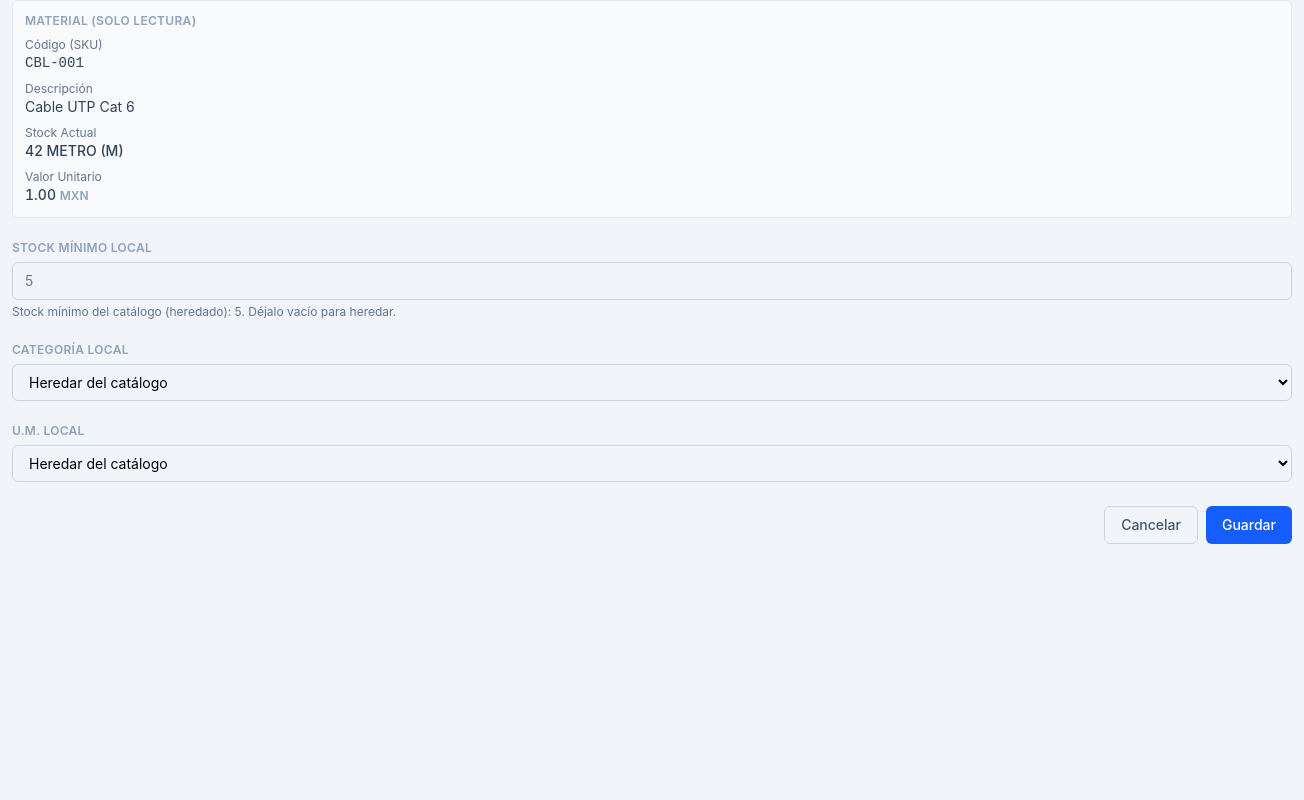
Test: ConfigLocalForm validación › stock mínimo negativo → error
In the number field labelled "Stock Mínimo Local": coordinates (652, 281) [12, 262, 1292, 300], type "-5"
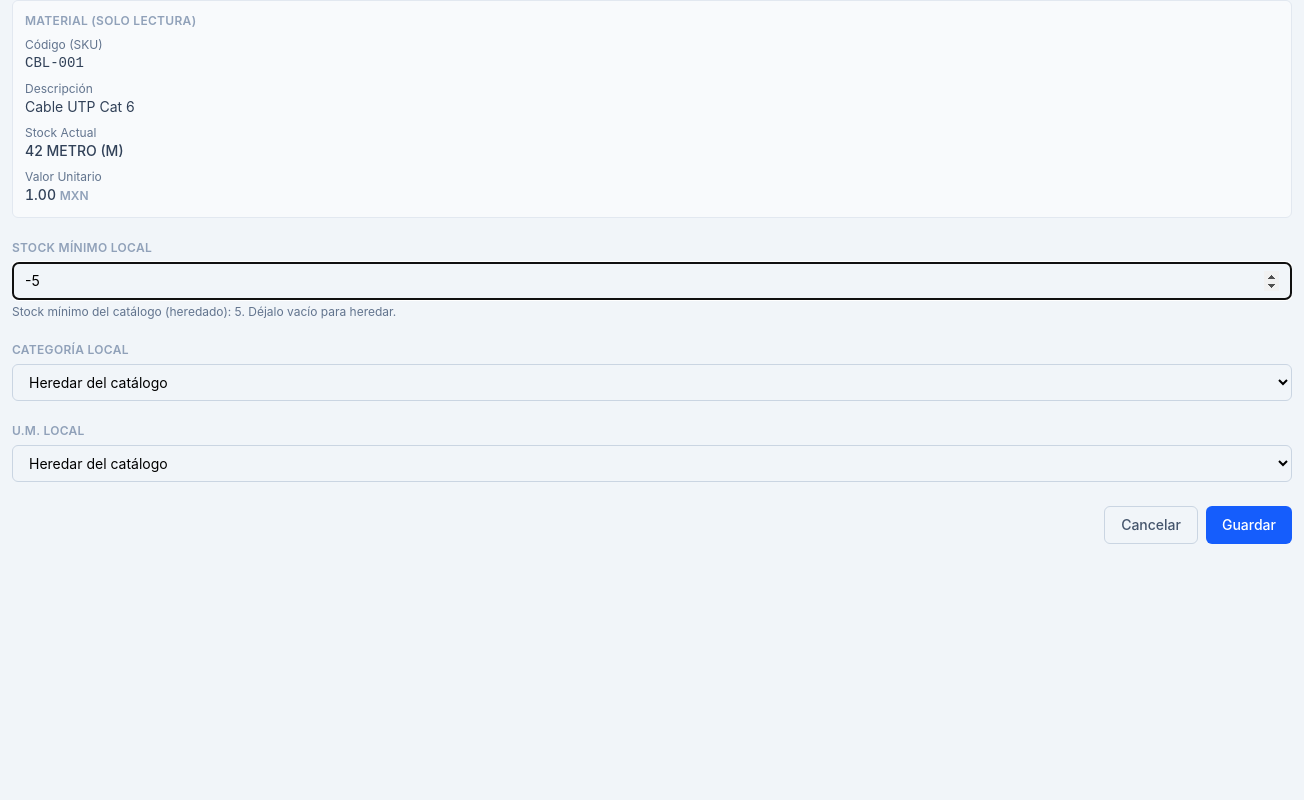
Click the button "Guardar": coordinates (1249, 525) [1206, 506, 1292, 544]
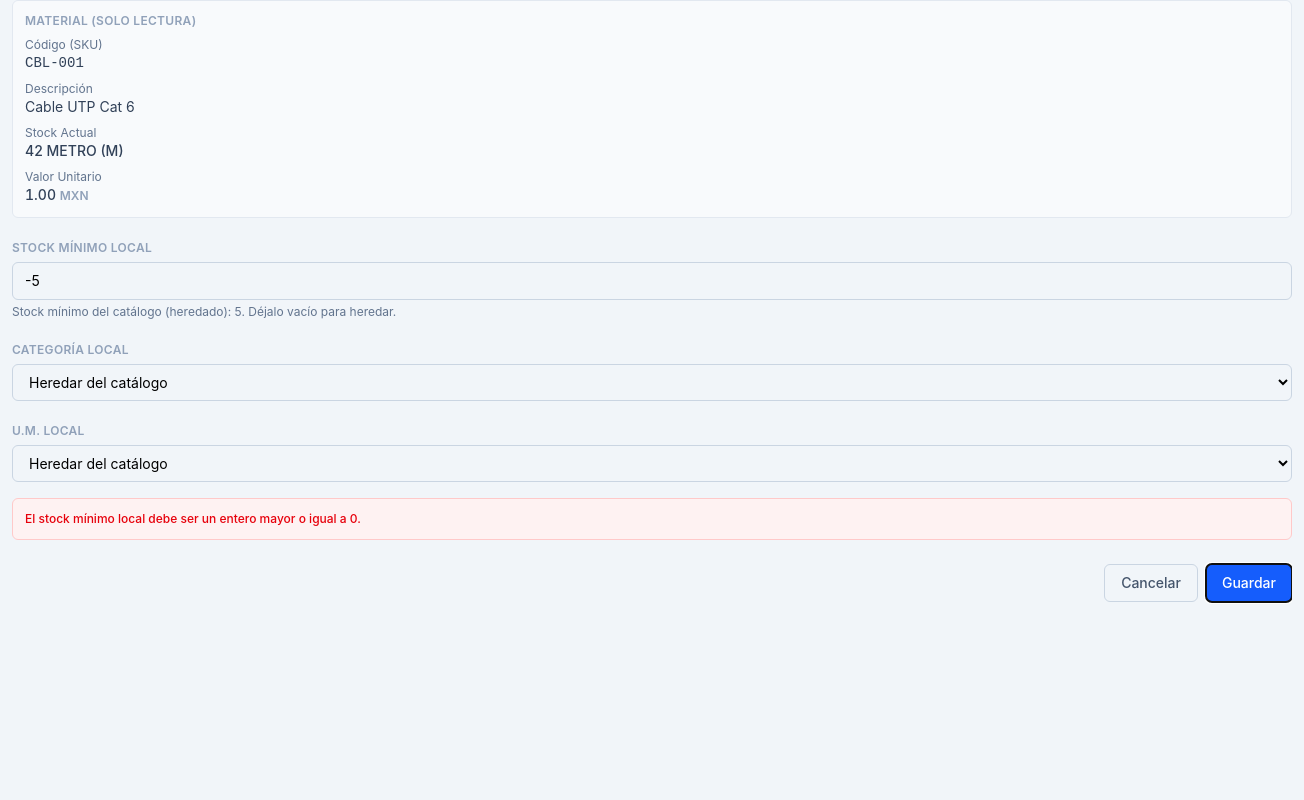
expect the text "El stock mínimo local debe ser un entero mayor o igual a 0." is shown: met, box [25, 511, 361, 526]
